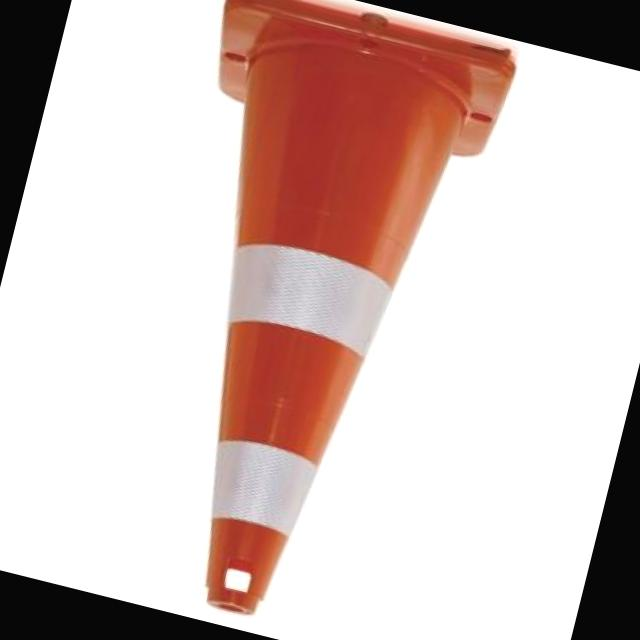cone: (49, 0, 530, 640)
